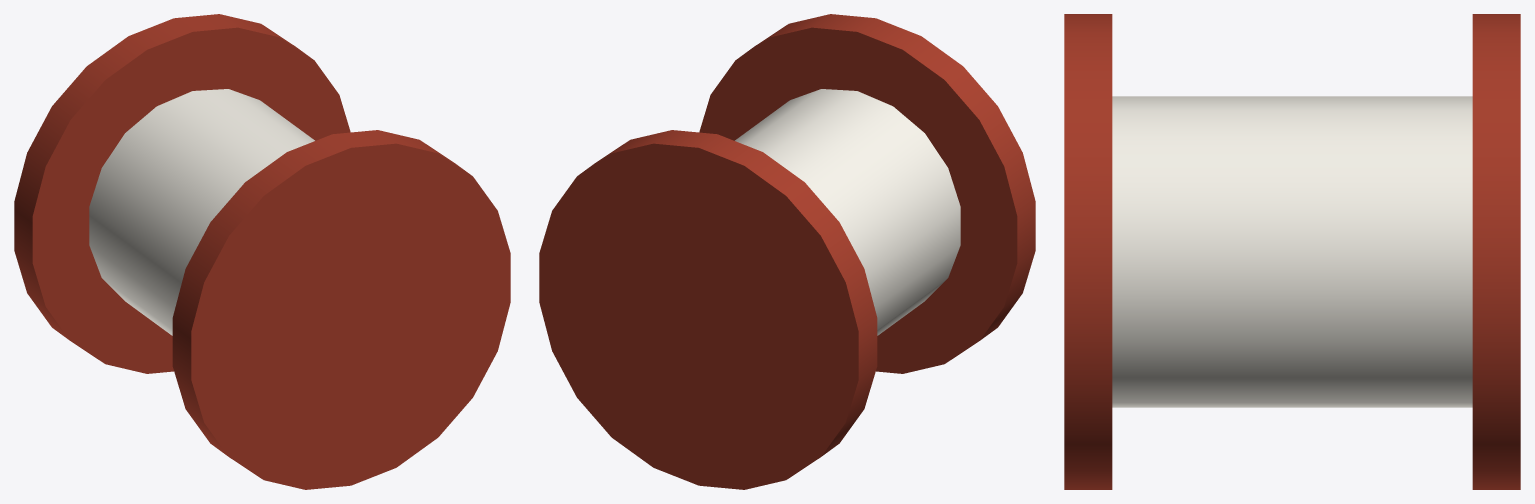
File: carretel-carretilha.glb
3 views of the same model, side by side, from view 1: azimuth 30°, elevation 25°; view 2: azimuth 150°, elevation 25°; view 3: azimuth 270°, elevation 25° (orthographic). The views are drawn at different scales.
Parts seen in each view (by area): view 1: carretel-carretilha; view 2: carretel-carretilha; view 3: carretel-carretilha.
Boxes of the visible parts, bbox=[...] form: carretel-carretilha: bbox=[14, 14, 510, 489]; carretel-carretilha: bbox=[539, 14, 1035, 489]; carretel-carretilha: bbox=[1064, 14, 1520, 489].
Size of the model in its own units: 0.198 by 0.2 by 0.19.
